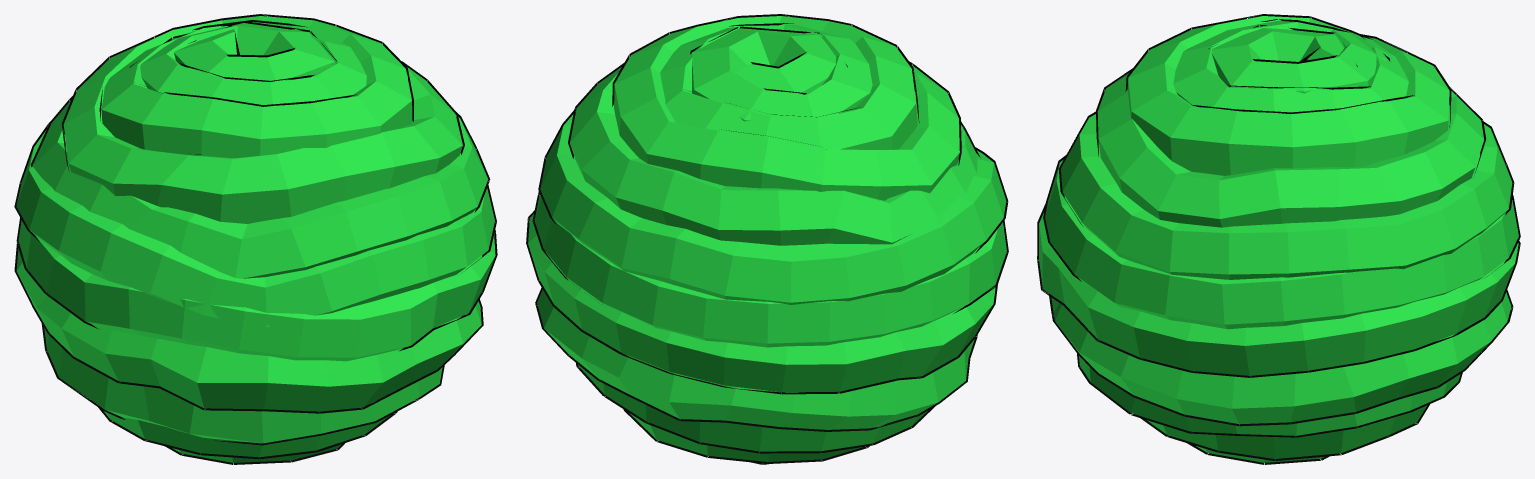
File: EnemyGreen.fbx
3 views of the same model, side by side, from view 1: azimuth 30°, elevation 25°; view 2: azimuth 150°, elevation 25°; view 3: azimuth 270°, elevation 25° (orthographic).
Visible parts, largest first — view 1: Cylinder.005; view 2: Cylinder.005; view 3: Cylinder.005.
Part boxes in pixels (x1,y1,x2,y2): Cylinder.005: (14,14,497,464); Cylinder.005: (526,14,1008,464); Cylinder.005: (1037,14,1520,464).
Bounding box in the file's own units: 234 × 213 × 234.
